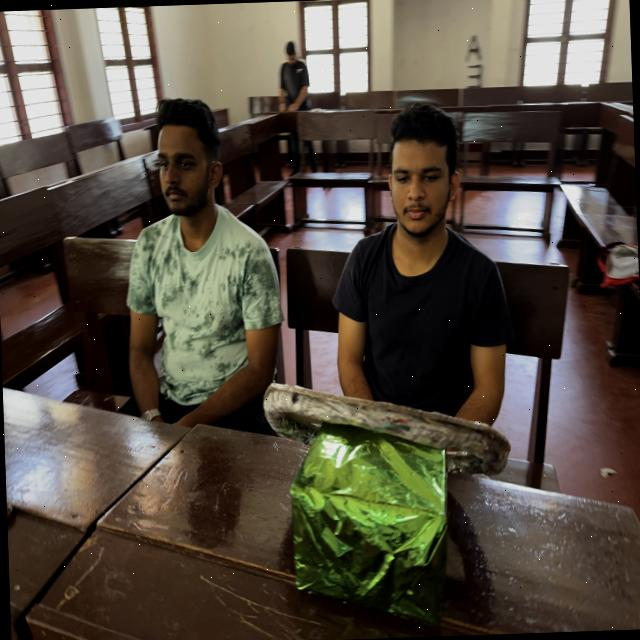no-seatbelt: (325, 220, 517, 439), (125, 202, 288, 443)
